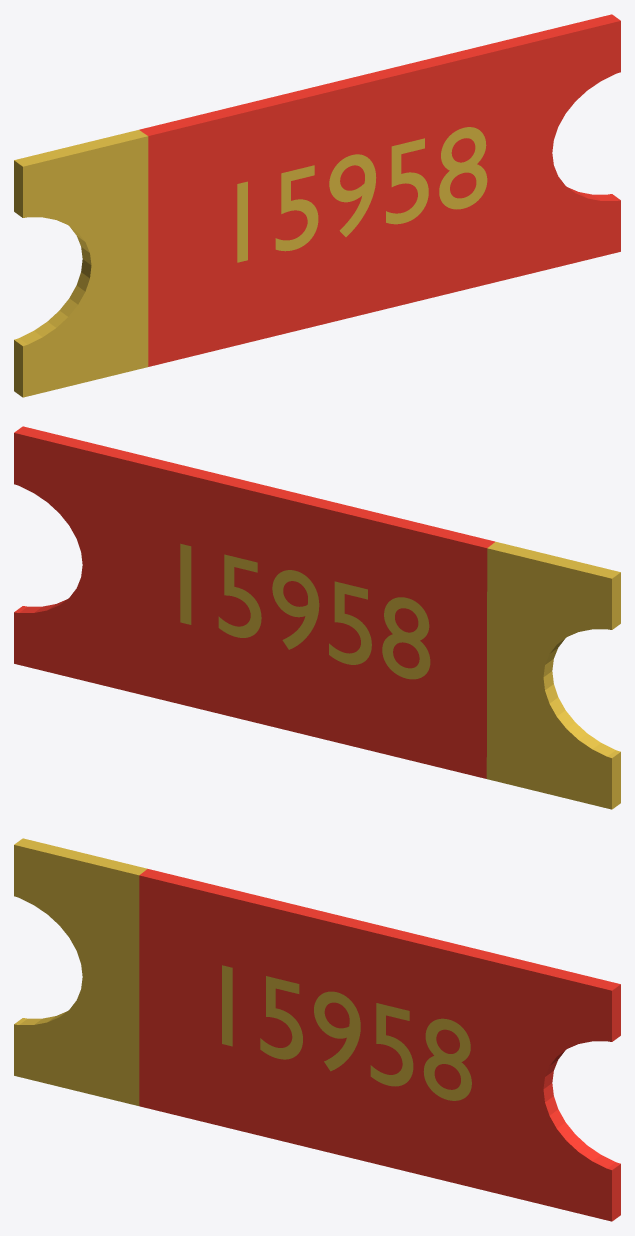
The model's file is foodcoupon5.glb.
3 renders of one model, top to bottom at view 1: azimuth 30°, elevation 25°; view 2: azimuth 150°, elevation 25°; view 3: azimuth 330°, elevation 25°, orthographic.
Parts seen in each view (by area): view 1: Cube.002; view 2: Cube.002; view 3: Cube.002.
Boxes of the visible parts, <box> form: Cube.002: <box>14,14,620,397</box>; Cube.002: <box>14,426,620,809</box>; Cube.002: <box>14,838,620,1221</box>.
Bounding box in the file's own units: 5.42 × 2 × 0.2516.
